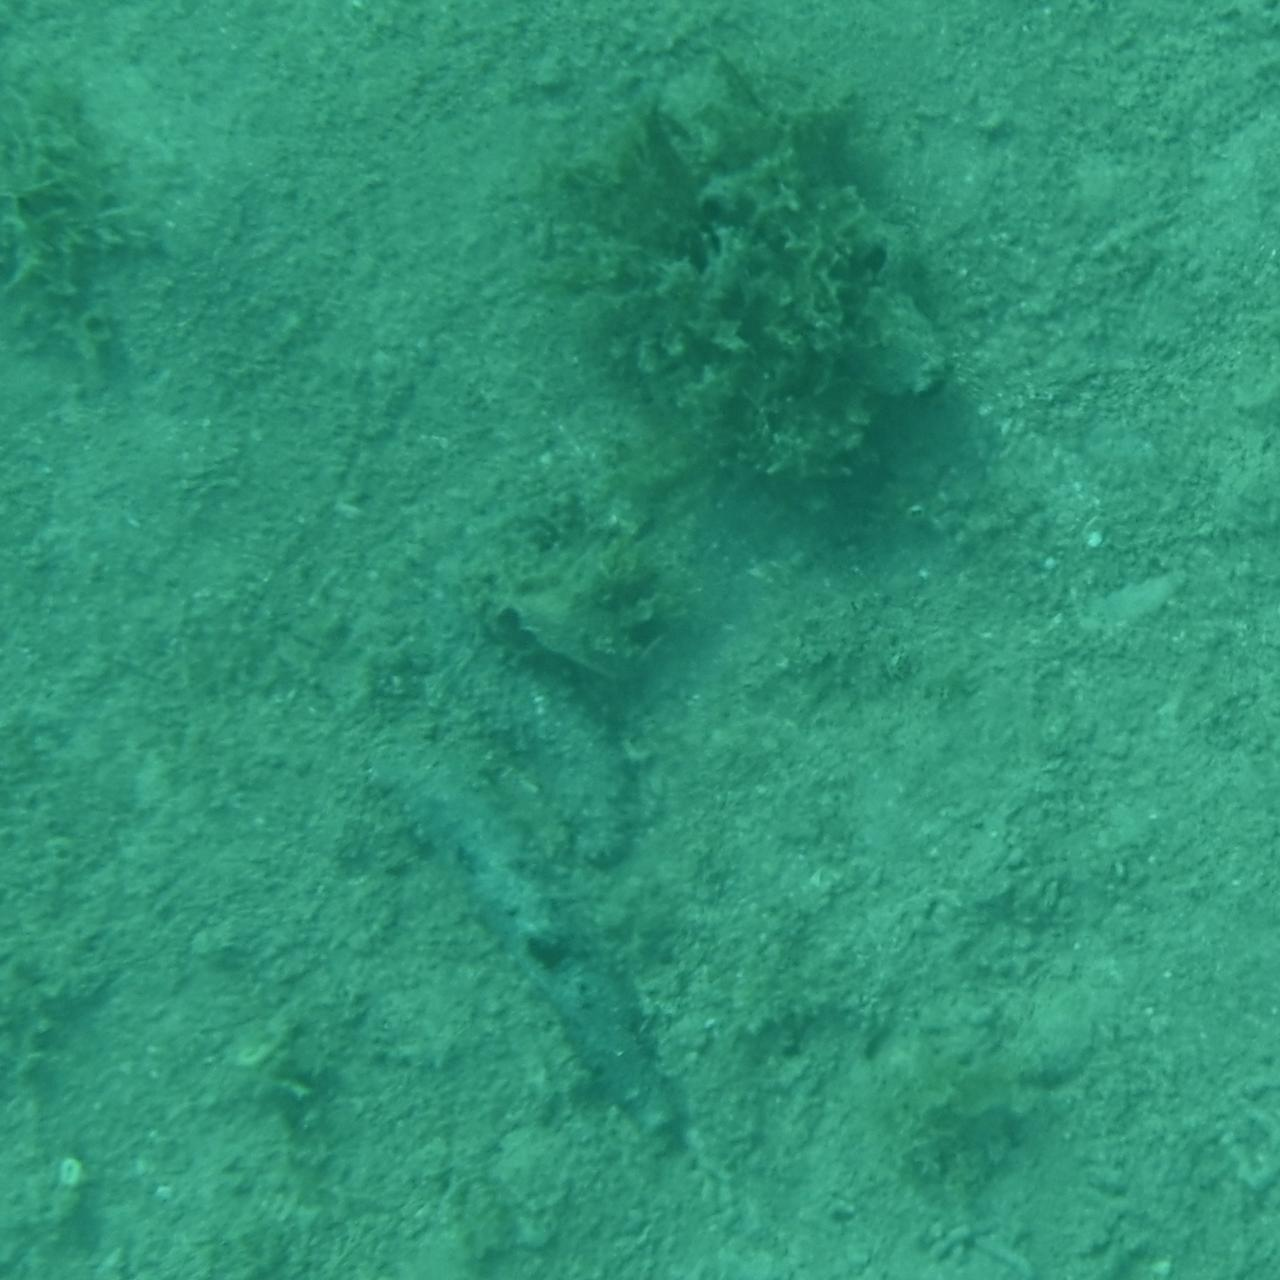Holothuria tubulosa: (388, 801, 708, 1165), (421, 625, 638, 857)
Phaeophyceae -cfr Cystoseira-: (535, 62, 968, 533)
